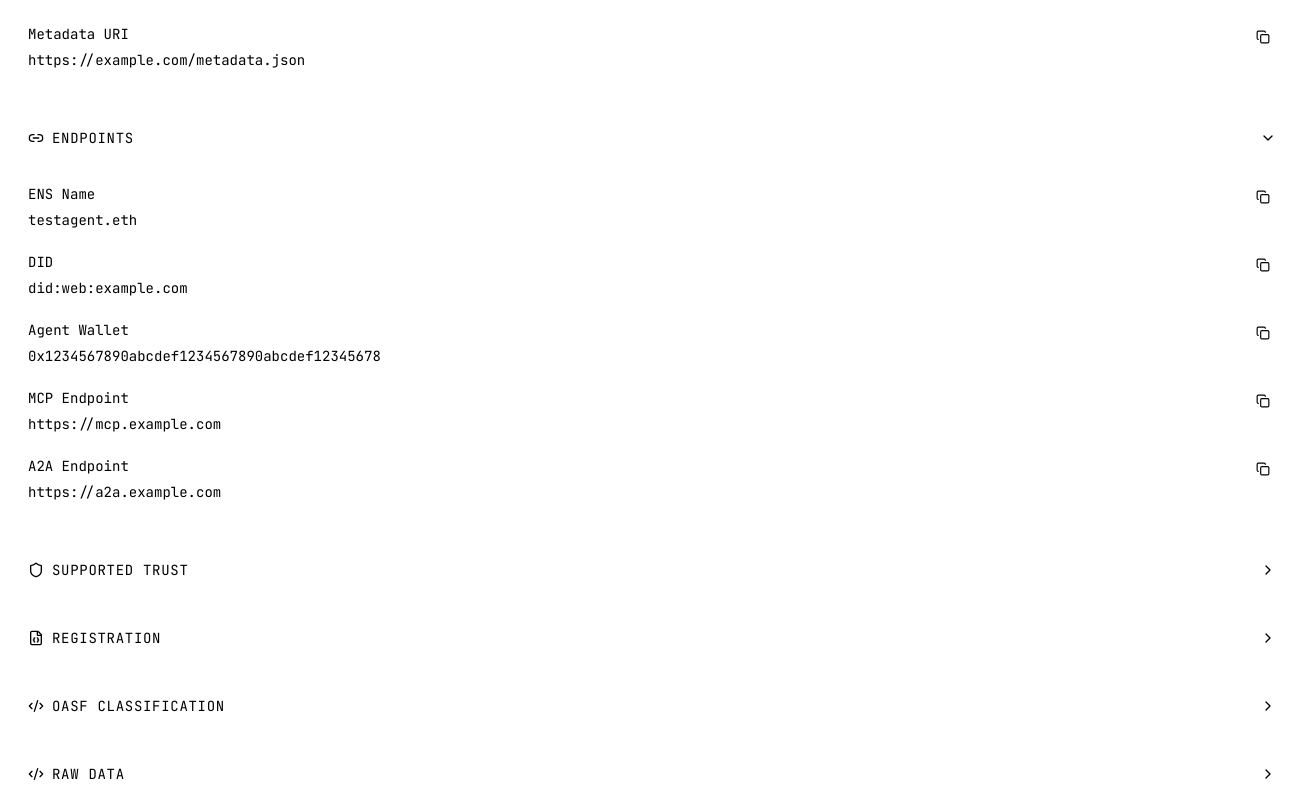
it: AgentMetadata › registration section › shows registration information
(page scrolled)
Click the button "Registration" at {"x": 107, "y": 638}, box x1=12 y1=612 x2=1292 y2=664
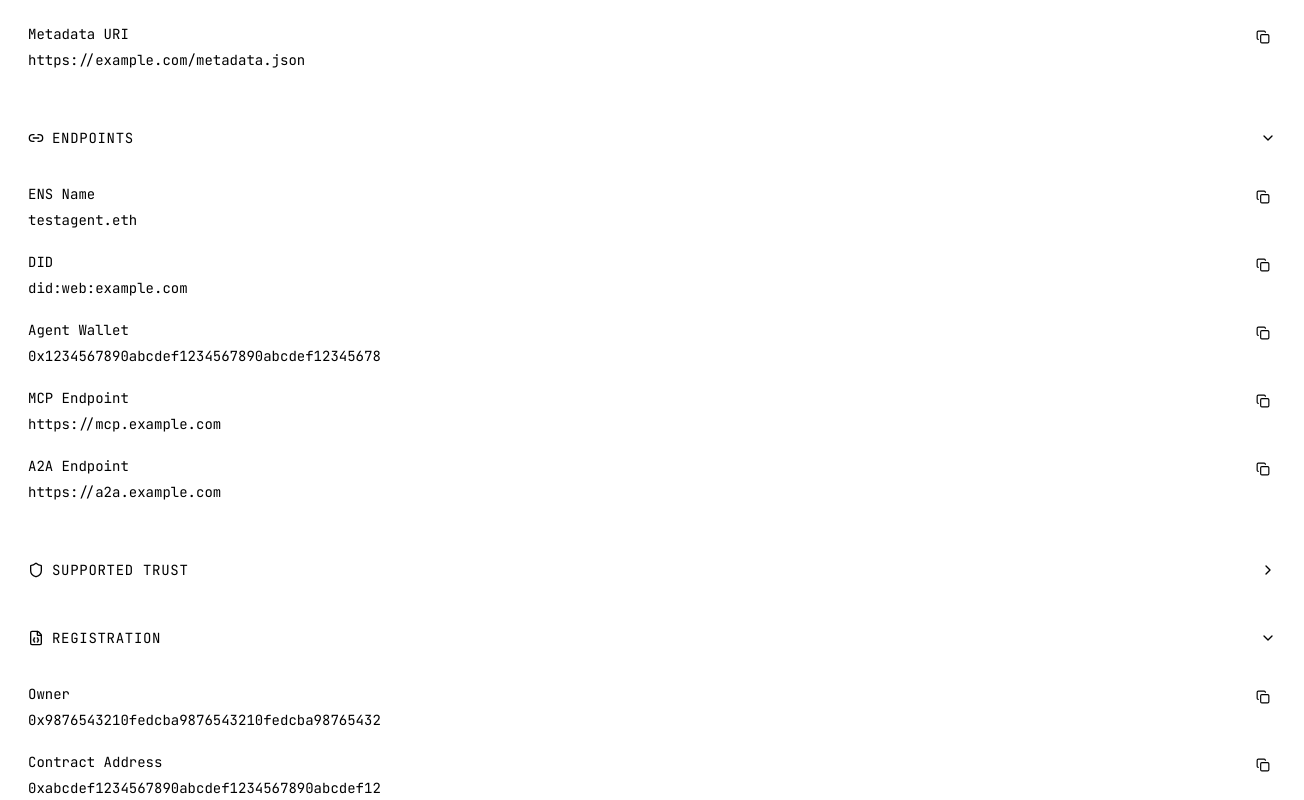
Expected: the text "0x9876543210fedcba9876543210fedcba98765432" is shown, x1=28 y1=711 x2=381 y2=729
